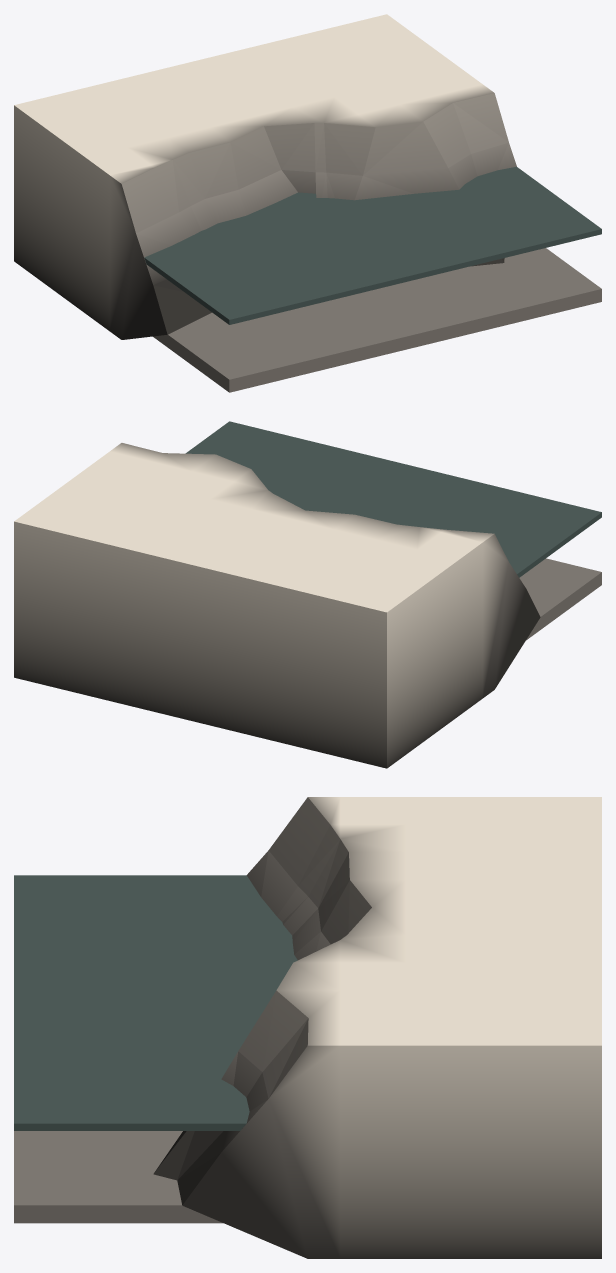
File: SM_VKI_Ground_Stream_XXOO_Q00.fbx
3 renders of one model, top to bottom at view 1: azimuth 30°, elevation 25°; view 2: azimuth 150°, elevation 25°; view 3: azimuth 270°, elevation 25°, orthographic. The views are drawn at different scales.
Visible parts, largest first — view 1: SM_VKI_Ground_Stream_XXOO_Q00.001; view 2: SM_VKI_Ground_Stream_XXOO_Q00.001; view 3: SM_VKI_Ground_Stream_XXOO_Q00.001.
Boxes of the visible parts, x1,y1,x2,y2 form: SM_VKI_Ground_Stream_XXOO_Q00.001: (14, 14, 601, 392); SM_VKI_Ground_Stream_XXOO_Q00.001: (14, 421, 601, 768); SM_VKI_Ground_Stream_XXOO_Q00.001: (14, 797, 601, 1258).
Bounding box in the file's own units: 1.5 × 0.6 × 1.5.
